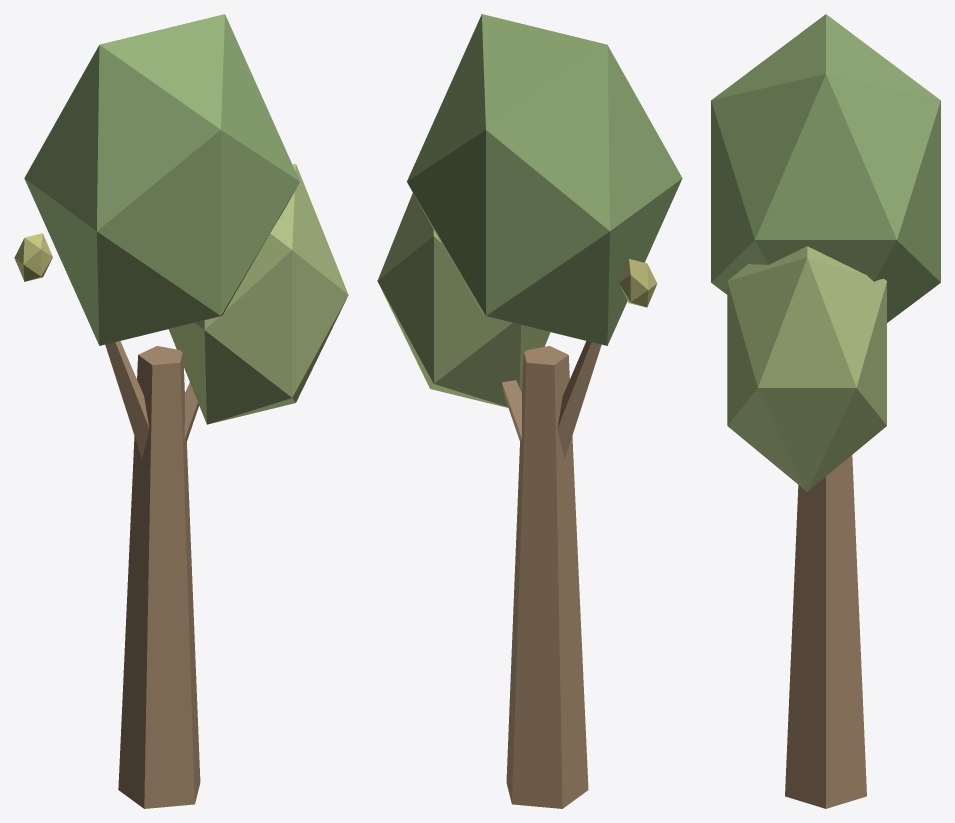
3 views of the same model, side by side, from view 1: azimuth 30°, elevation 25°; view 2: azimuth 150°, elevation 25°; view 3: azimuth 270°, elevation 25° (orthographic). The views are drawn at different scales.
Visible parts, largest first — view 1: Body; view 2: Body; view 3: Body.
Part boxes in pixels (x1,y1,x2,y2): Body: (14, 14, 348, 808); Body: (377, 14, 682, 808); Body: (711, 14, 940, 808).
Bounding box in the file's own units: 1.67 × 4.39 × 1.22.
